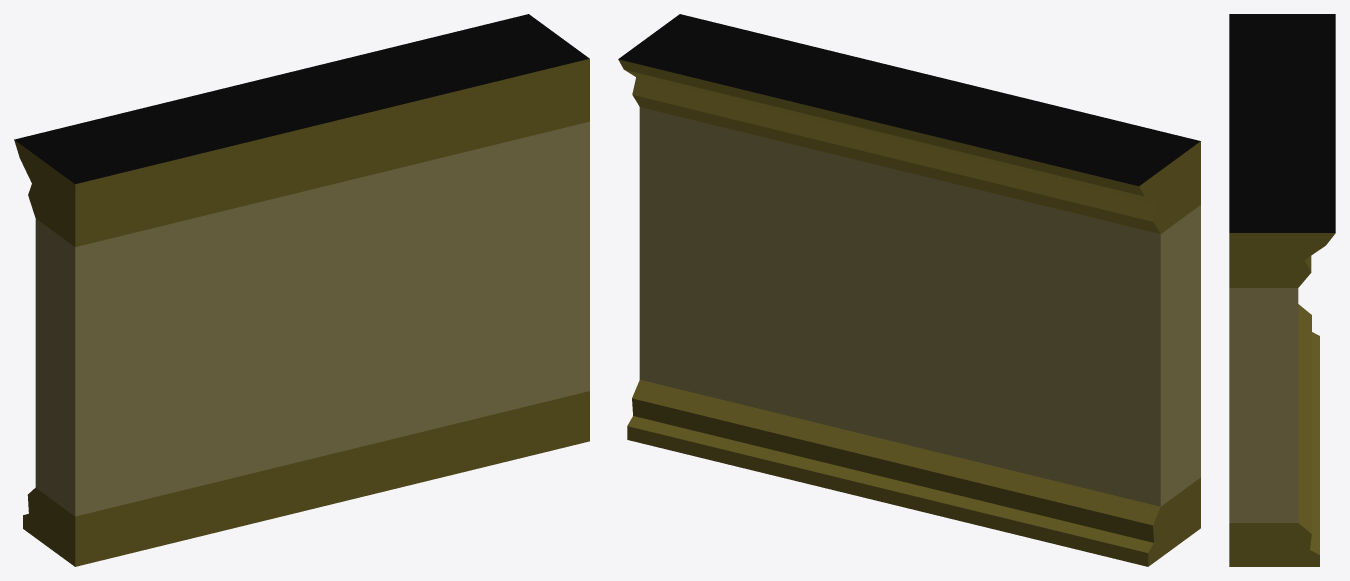
File: Parede_lvl1.fbx
The picture shows the model from 3 angles, left to right: view 1: azimuth 30°, elevation 25°; view 2: azimuth 150°, elevation 25°; view 3: azimuth 270°, elevation 25°; orthographic projection. The views are drawn at different scales.
Visible parts, largest first — view 1: Cube.001; view 2: Cube.001; view 3: Cube.001.
Part boxes in pixels (left/top/right/bottom): Cube.001: left=14, top=14, right=589, bottom=566; Cube.001: left=618, top=14, right=1200, bottom=566; Cube.001: left=1229, top=14, right=1335, bottom=566.
Bounding box in the file's own units: 6000 × 4263 × 1233.
